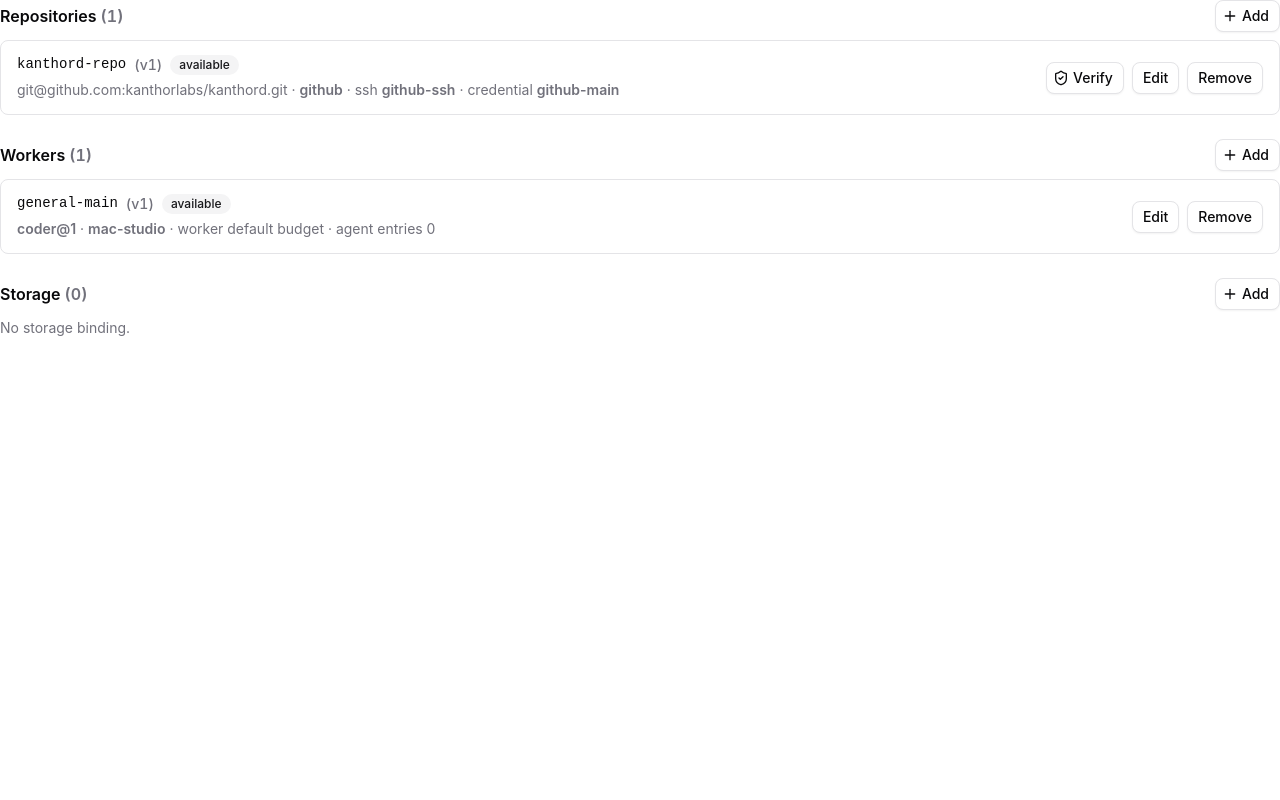
BindingsPanel › writes a revision as the whole set at the read version without a guard
Click the button with aria-label "Edit kanthord-repo": (1156, 78) 1132,62 -> 1179,94
(page scrolled)
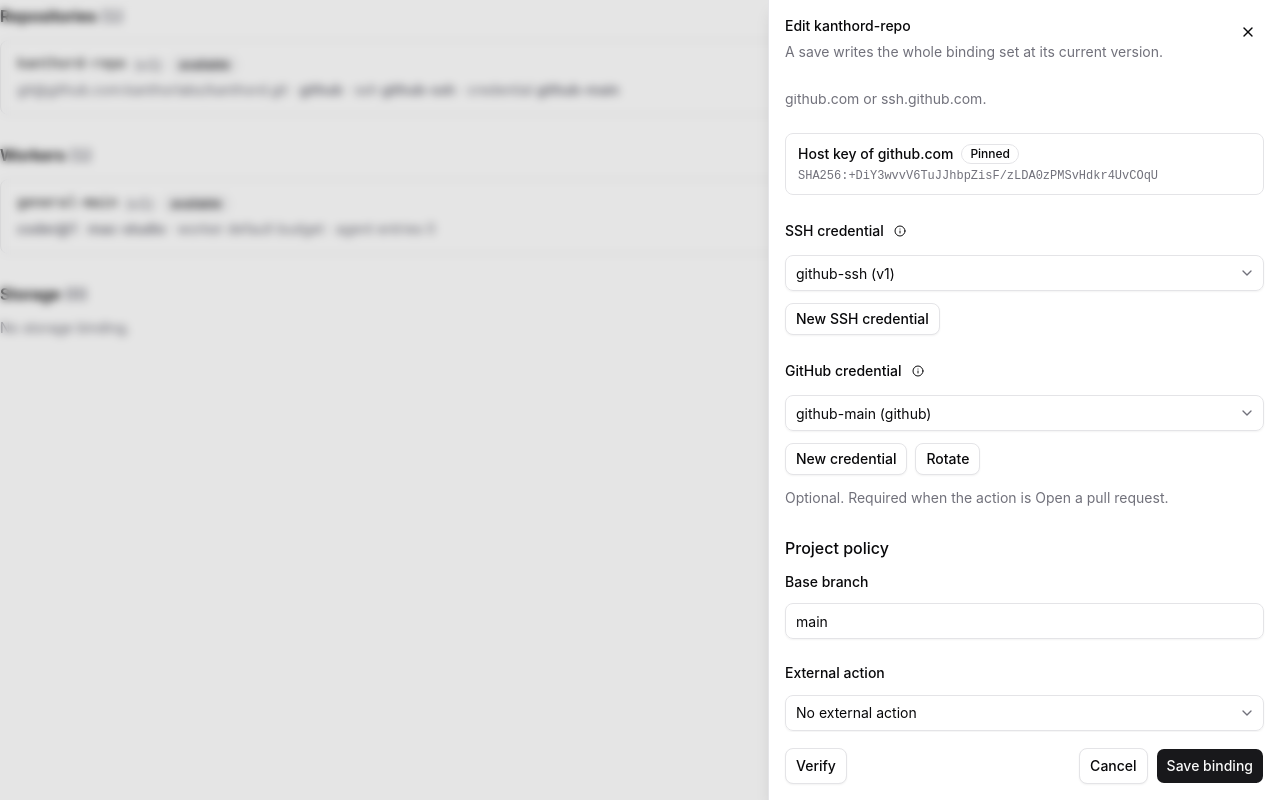
Replace the text in the dropdown labelled "GitHub credential" with "kanth": (1010, 413) 786,395 -> 1235,431
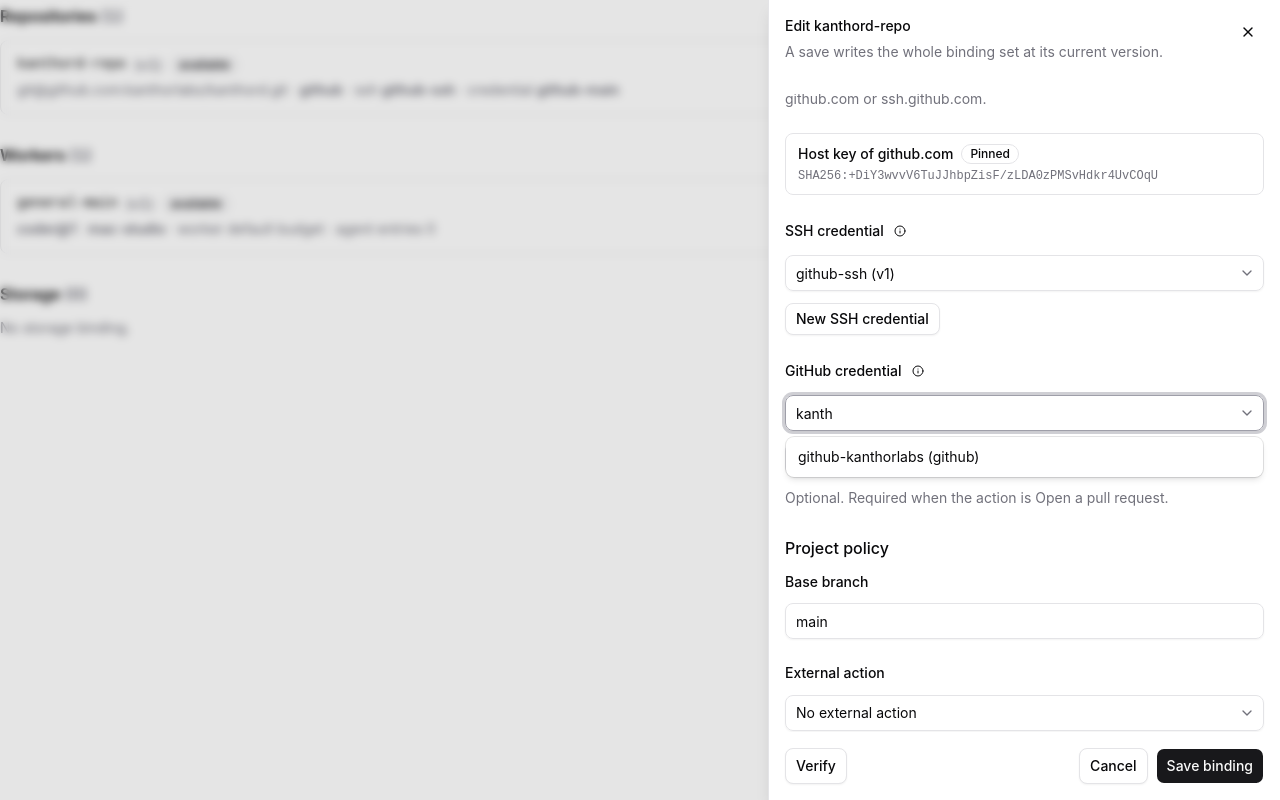
Click the option "github-kanthorlabs (github)": (889, 456) 798,448 -> 979,465
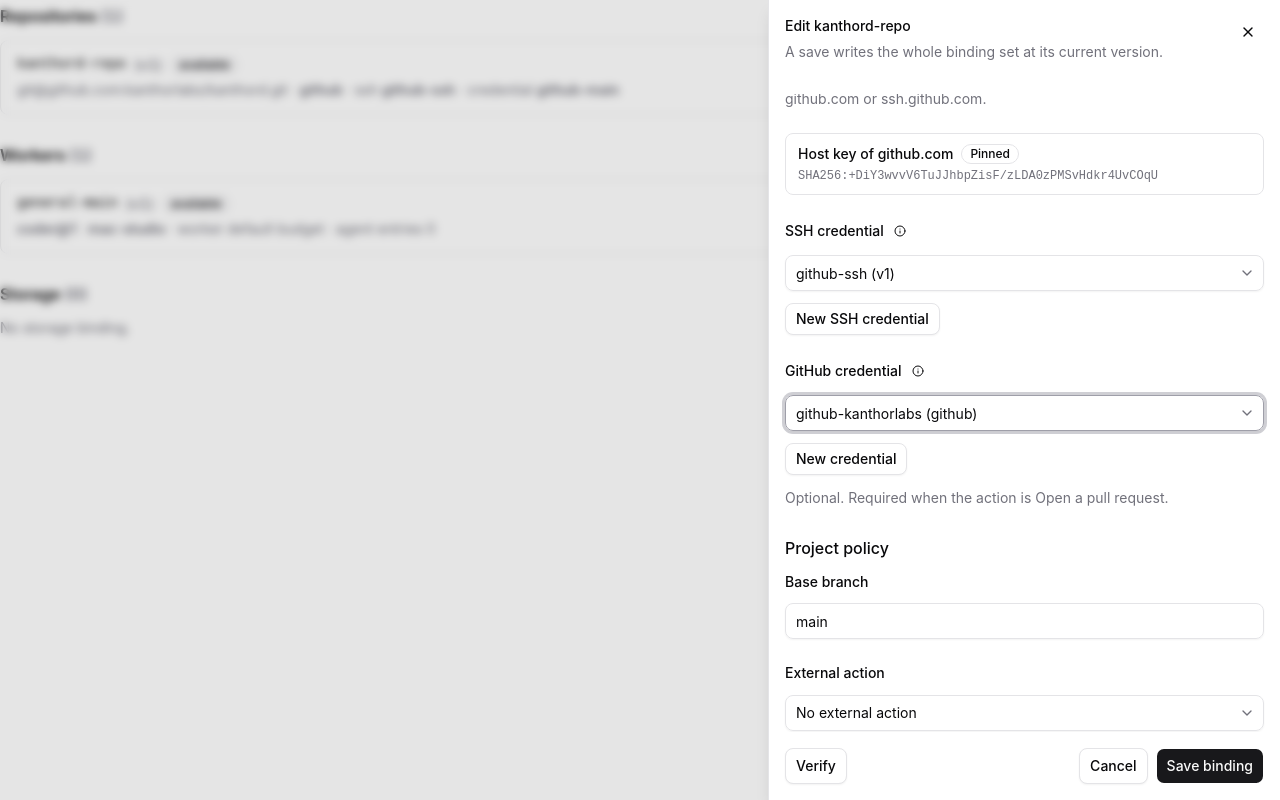
Click the button "Save binding": (1210, 766) 1156,748 -> 1264,784
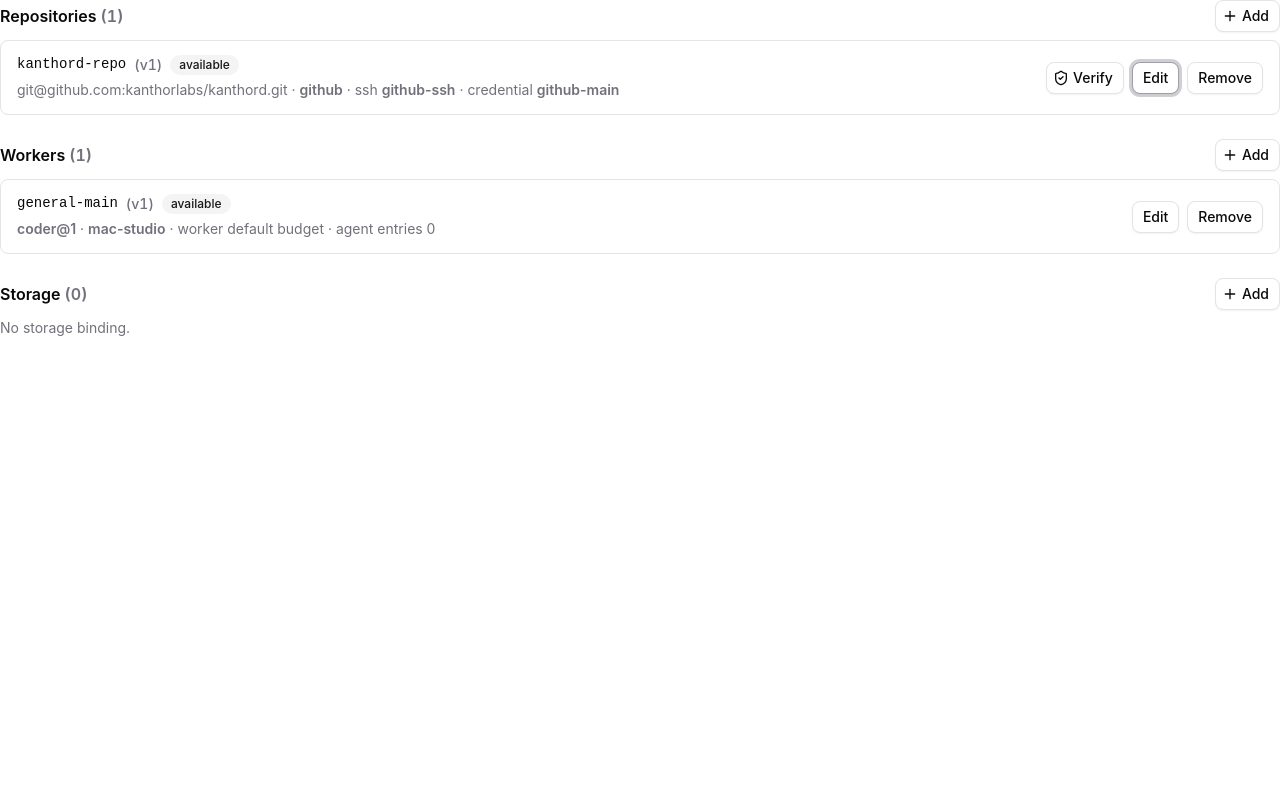
Check: the dialog is gone
